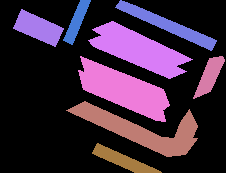parkingspot: (66, 101, 197, 156), (115, 0, 216, 50), (80, 56, 169, 110), (92, 21, 192, 66), (78, 70, 165, 121), (88, 34, 186, 78), (92, 143, 165, 173), (13, 9, 63, 46), (193, 56, 224, 98), (63, 0, 90, 44)
